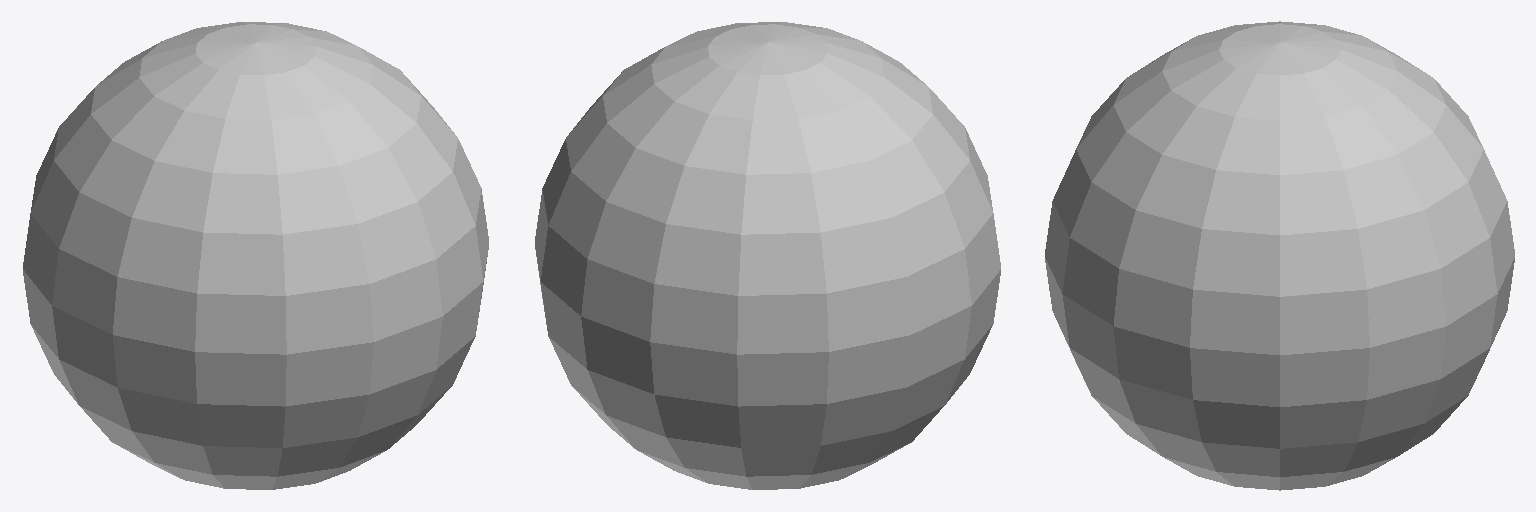
File: ball.obj
The picture shows the model from 3 angles: view 1: azimuth 30°, elevation 25°; view 2: azimuth 150°, elevation 25°; view 3: azimuth 270°, elevation 25°; orthographic projection.
Parts seen in each view (by area): view 1: Mesh1 player Model; view 2: Mesh1 player Model; view 3: Mesh1 player Model.
Boxes of the visible parts, x1=… form: Mesh1 player Model: x1=23, y1=22, x2=488, y2=489; Mesh1 player Model: x1=535, y1=22, x2=1000, y2=489; Mesh1 player Model: x1=1045, y1=21, x2=1514, y2=490.
Size of the model in its own units: 101 by 101 by 101.